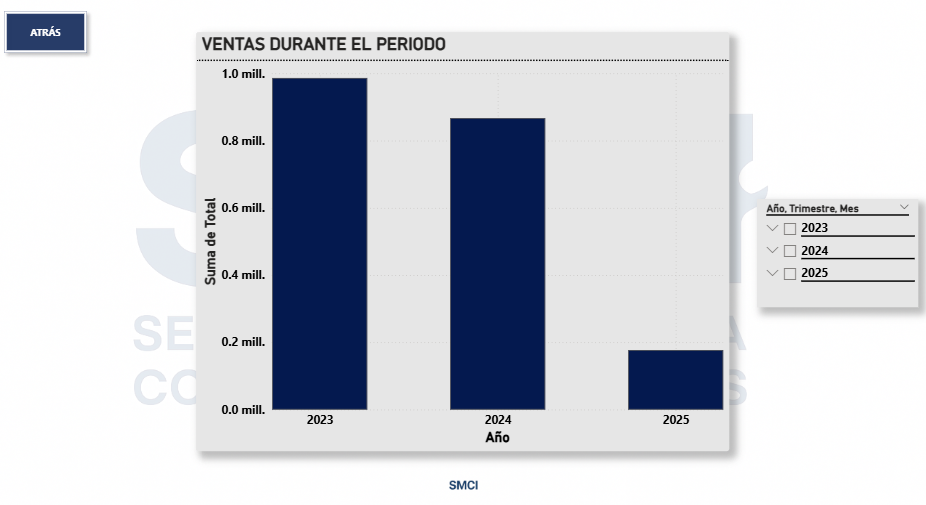

What the dashboard file says about the page in this screenshot:
{"tool":"powerbi","page":{"name":"Ventas periodo","canvas":[1280,720],"ordinal":0},"visuals":[{"type":"columnChart","fields":{"Category":["Facturas Emitidas.Fecha.Variación.Jerarquía de fechas.Año","Facturas Emitidas.Fecha.Variación.Jerarquía de fechas.Trimestre","Facturas Emitidas.Fecha.Variación.Jerarquía de fechas.Mes","Facturas Emitidas.Fecha.Variación.Jerarquía de fechas.Día"],"Y":["Sum(Facturas Emitidas.Total)"]},"box":[0,79,552.7,500.6],"z":0},{"type":"slicer","fields":{"Values":["Facturas Emitidas.Fecha.Variación.Jerarquía de fechas.Año","Facturas Emitidas.Fecha.Variación.Jerarquía de fechas.Trimestre","Facturas Emitidas.Fecha.Variación.Jerarquía de fechas.Mes","Facturas Emitidas.Fecha.Variación.Jerarquía de fechas.Día"]},"box":[782.8,211.7,240.2,147.8],"z":1000}]}

Visuals, with their boxes on the page's 1280x720 design canvas (x1, y1, x2, y2). These are canvas units, not pixel positions in the 926x505 screenshot, which may show the page scaled, cropped or inside an application window:
columnChart - Facturas Emitidas.Fecha.Variación.Jerarquía de fechas.Año x Facturas Emitidas.Fecha.Variación.Jerarquía de fechas.Trimestre: pyautogui.locateOnScreen(0, 79, 553, 580)
slicer - Facturas Emitidas.Fecha.Variación.Jerarquía de fechas.Año x Facturas Emitidas.Fecha.Variación.Jerarquía de fechas.Trimestre: pyautogui.locateOnScreen(783, 212, 1023, 360)
